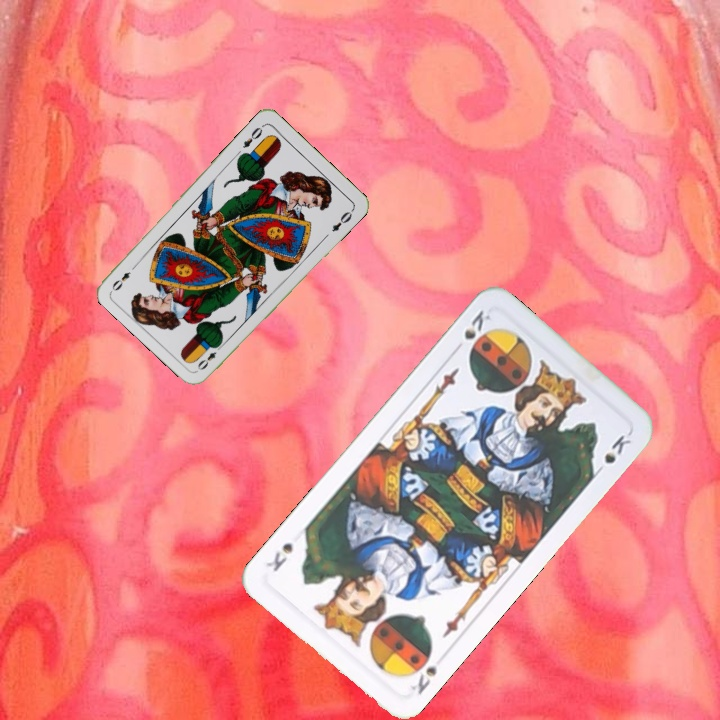EO: (193, 340, 225, 373), (239, 123, 265, 151)
SK: (460, 306, 495, 342), (406, 662, 440, 697)
